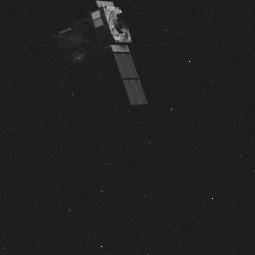soho: (51, 6, 151, 111)
